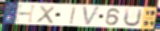6: (106, 8, 122, 27)
H: (14, 4, 39, 24)
I: (69, 6, 78, 25)
U: (123, 8, 145, 28)
V: (82, 6, 102, 27)
X: (35, 4, 57, 24)
